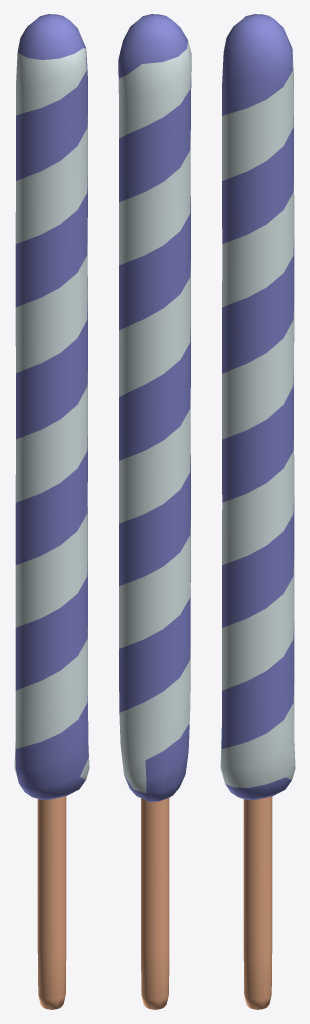
The model's file is Pokka_01.fbx.
3 views of the same model, side by side, from view 1: azimuth 90°, elevation 25°; view 2: azimuth 150°, elevation 25°; view 3: azimuth 270°, elevation 25° (orthographic).
Visible parts, largest first — view 1: Pokka_01_LOD0; view 2: Pokka_01_LOD0; view 3: Pokka_01_LOD0.
Part boxes in pixels (x1,y1,x2,y2): Pokka_01_LOD0: (14, 14, 89, 1009); Pokka_01_LOD0: (118, 14, 191, 1009); Pokka_01_LOD0: (220, 14, 295, 1009).
Size of what is drawn, in the model's own units: 83.63 by 1275 by 87.56.
